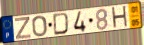4: (73, 10, 88, 34)
8: (95, 8, 109, 31)
D: (52, 11, 70, 36)
H: (110, 5, 130, 30)
O: (31, 15, 48, 38)
Z: (14, 16, 33, 41)
